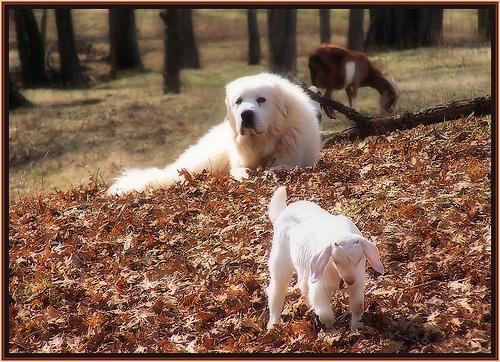Great_Pyrenees: (104, 72, 322, 199)
